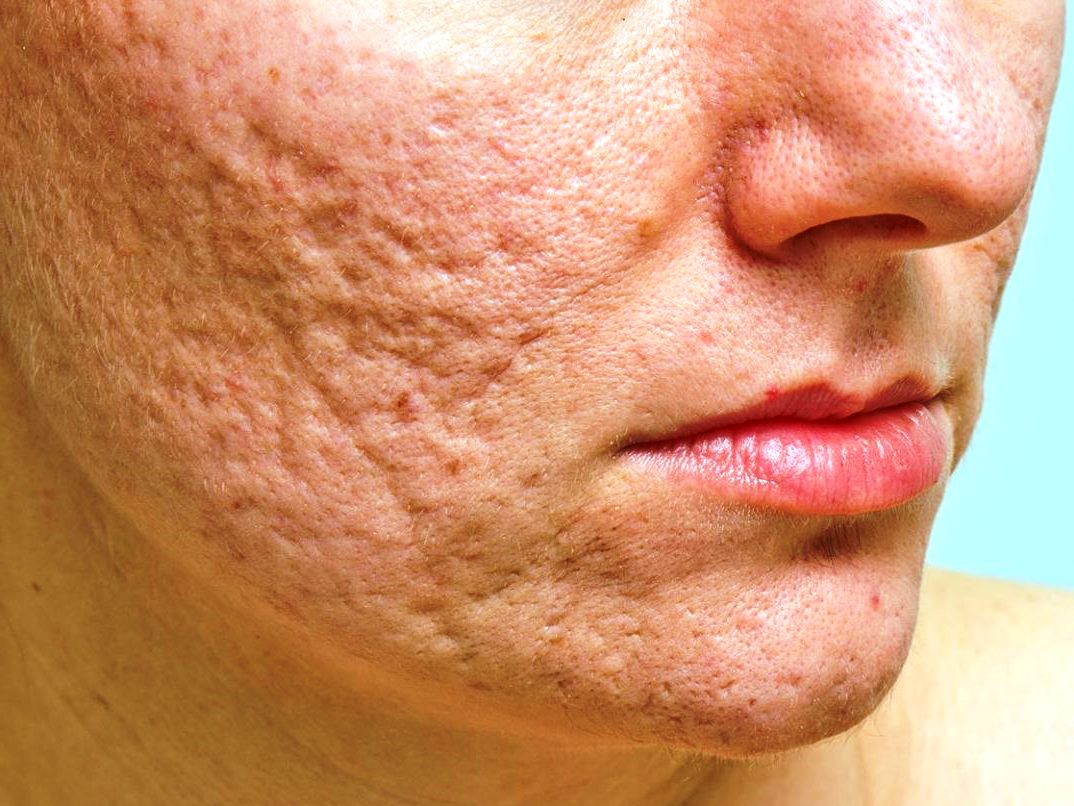jerawat: (26, 9, 646, 677)
